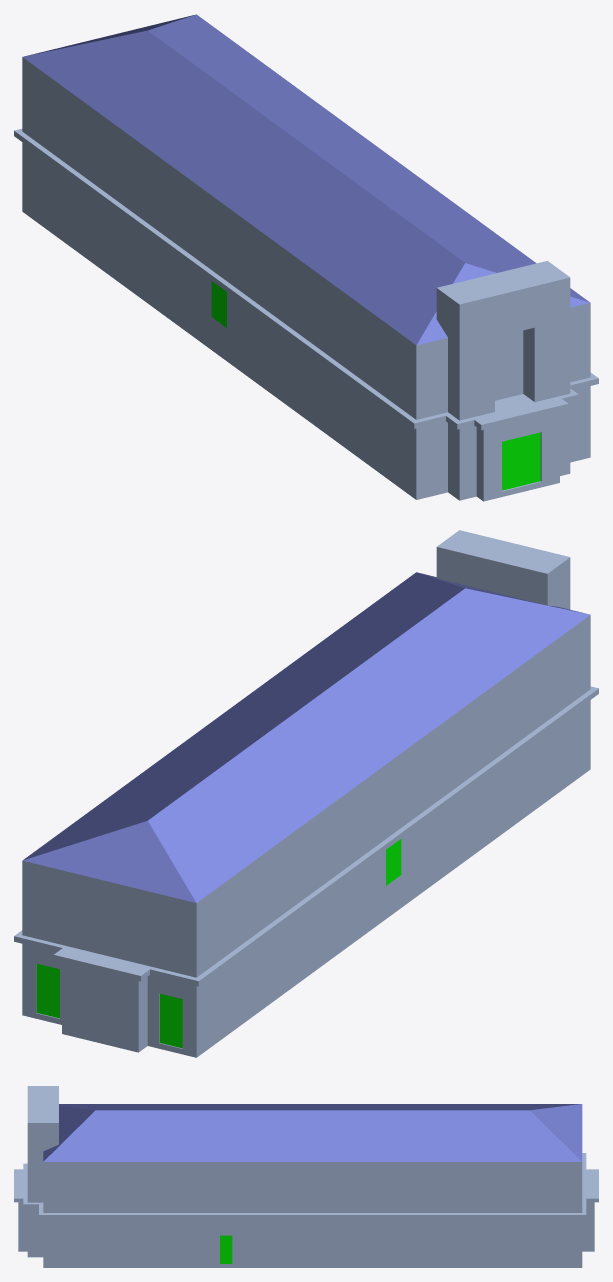
The model's file is pump_house.glb.
3 renders of one model, top to bottom at view 1: azimuth 30°, elevation 25°; view 2: azimuth 150°, elevation 25°; view 3: azimuth 270°, elevation 25°, orthographic. The views are drawn at different scales.
Parts seen in each view (by area): view 1: Floor1, Roof; view 2: Floor1, Roof; view 3: Floor1, Roof.
Part boxes in pixels (x1,y1,x2,y2): Floor1: [14, 57, 598, 501]; Roof: [23, 14, 590, 345]; Floor1: [14, 599, 598, 1057]; Roof: [23, 530, 589, 902]; Floor1: [14, 1151, 598, 1267]; Roof: [27, 1086, 582, 1161].
Size of the model in its own units: 14 by 14.2 by 56.1.
